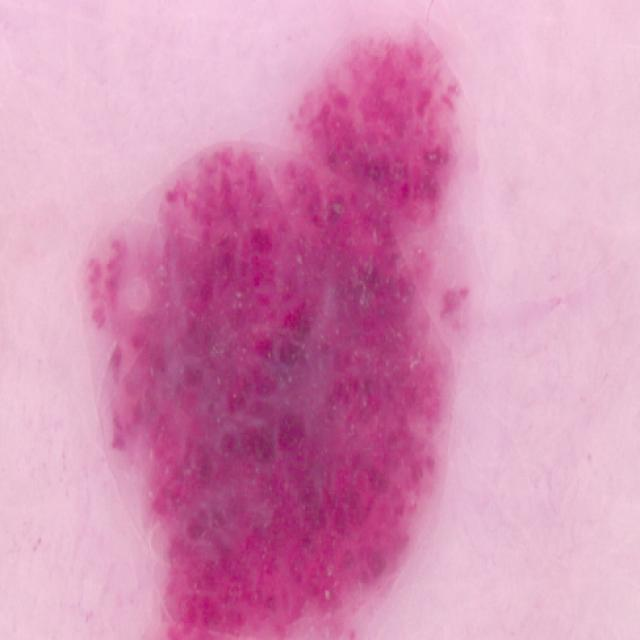Vascular Lesions: (55, 9, 530, 640)
